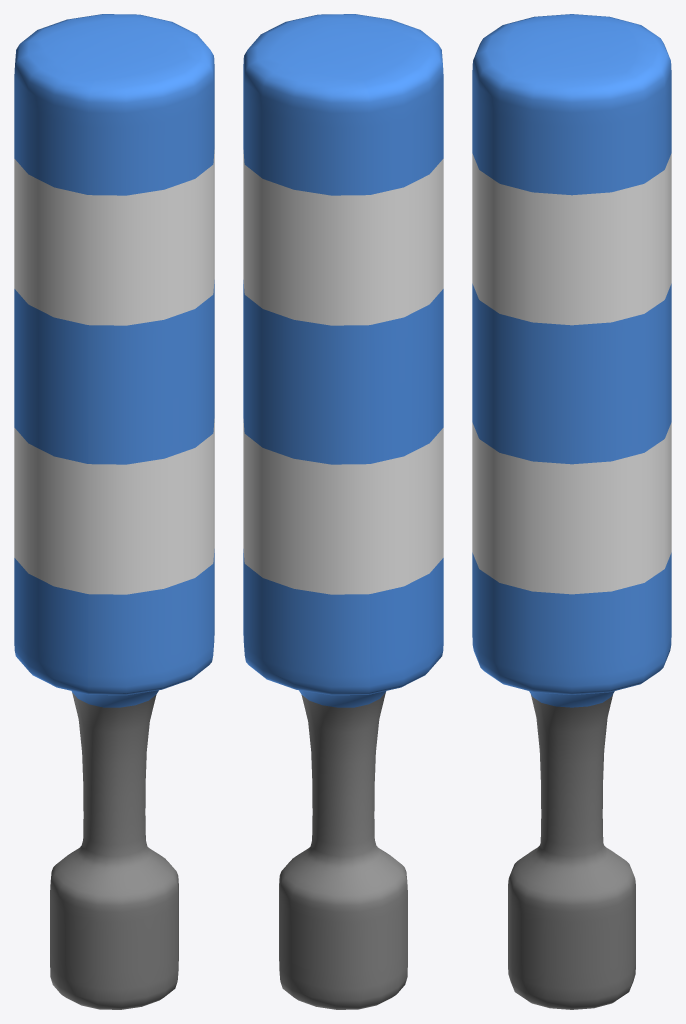
File: trap_trapcirclehorizontalblue.glb
The picture shows the model from 3 angles, left to right: view 1: azimuth 30°, elevation 25°; view 2: azimuth 150°, elevation 25°; view 3: azimuth 270°, elevation 25°; orthographic projection.
Visible parts, largest first — view 1: Cube.009_visual; view 2: Cube.009_visual; view 3: Cube.009_visual.
Part boxes in pixels (bbox=[...]): Cube.009_visual: bbox=[14, 14, 214, 1009]; Cube.009_visual: bbox=[243, 14, 443, 1009]; Cube.009_visual: bbox=[472, 14, 671, 1009].
Size of what is drawn, in the model's own units: 0.6443 by 3.37 by 0.6443.
Materials: 1 (1 with a texture image).
